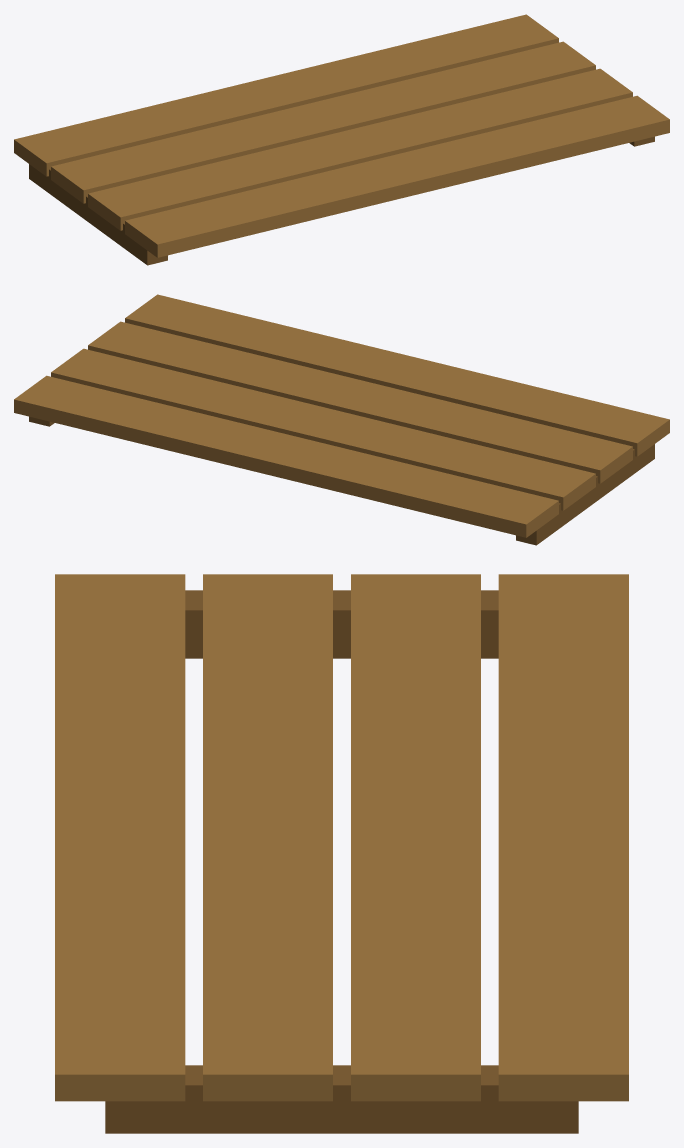
File: wood_plank_pristine.obj
3 views of the same model, one above another, from view 1: azimuth 30°, elevation 25°; view 2: azimuth 150°, elevation 25°; view 3: azimuth 270°, elevation 25° (orthographic). The views are drawn at different scales.
Parts seen in each view (by area): view 1: box_3, box_1, box_2, box_0, box_4; view 2: box_0, box_1, box_2, box_3, box_4; view 3: box_0, box_3, box_1, box_2, box_5, box_4.
Boxes of the visible parts, x1=… form: box_3: x1=125, y1=95, x2=669, y2=257; box_1: x1=51, y1=41, x2=595, y2=203; box_2: x1=88, y1=68, x2=632, y2=230; box_0: x1=14, y1=14, x2=558, y2=176; box_4: x1=29, y1=164, x2=167, y2=265; box_0: x1=14, y1=375, x2=558, y2=537; box_1: x1=51, y1=348, x2=595, y2=510; box_2: x1=88, y1=321, x2=632, y2=483; box_3: x1=125, y1=294, x2=669, y2=456; box_4: x1=516, y1=444, x2=654, y2=545; box_0: x1=498, y1=574, x2=628, y2=1101; box_3: x1=55, y1=574, x2=185, y2=1101; box_1: x1=351, y1=574, x2=480, y2=1101; box_2: x1=203, y1=574, x2=332, y2=1101; box_5: x1=105, y1=1065, x2=578, y2=1133; box_4: x1=185, y1=590, x2=498, y2=658.
Size of the model in its own units: 2 by 0.115 by 0.97.
